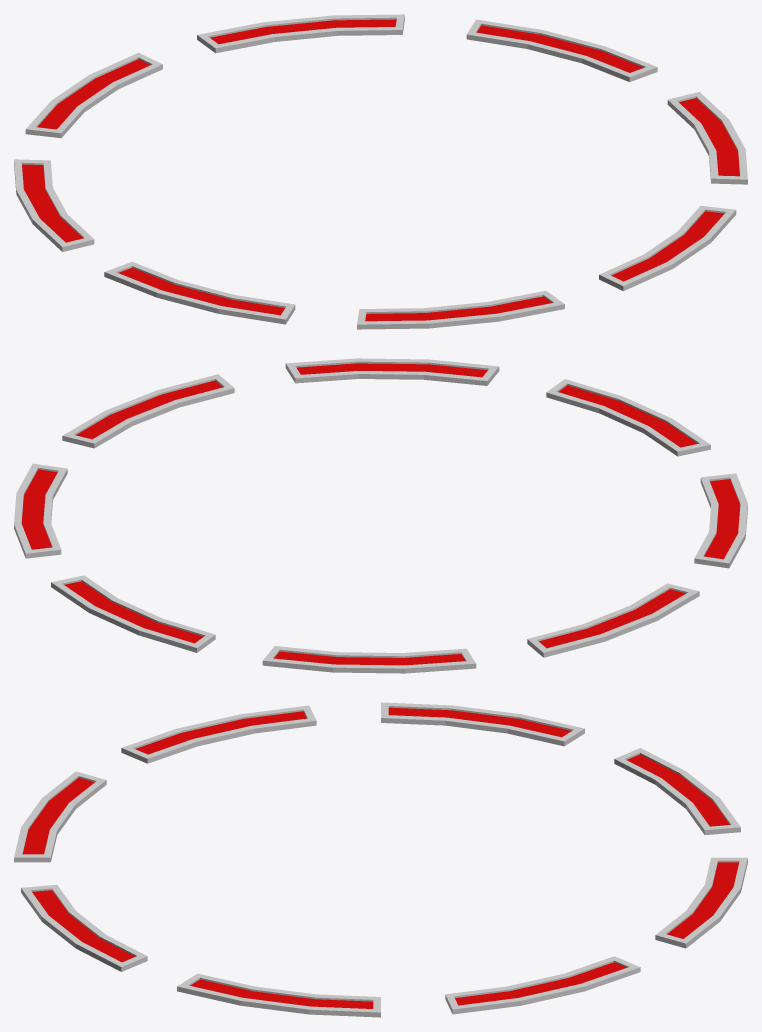
The model's file is ZoneTimer.fbx.
3 renders of one model, top to bottom at view 1: azimuth 30°, elevation 25°; view 2: azimuth 150°, elevation 25°; view 3: azimuth 270°, elevation 25°, orthographic.
Visible parts, largest first — view 1: Circle; view 2: Circle; view 3: Circle.
Part boxes in pixels (bbox=[...]): Circle: bbox=[14, 14, 747, 329]; Circle: bbox=[14, 358, 747, 673]; Circle: bbox=[14, 702, 747, 1017].
Size of the model in its own units: 800 by 5.91 by 800.
